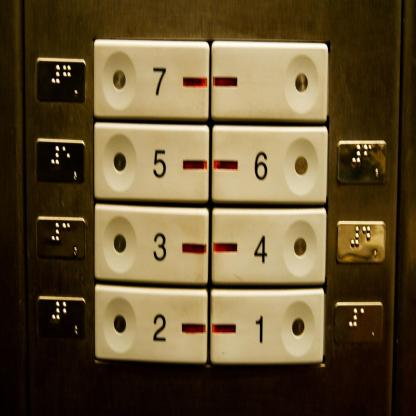1: (207, 281, 330, 369)
2: (90, 280, 208, 368)
3: (90, 202, 209, 288)
4: (209, 203, 330, 292)
5: (89, 120, 208, 202)
6: (208, 125, 330, 209)
7: (90, 35, 208, 125)
empty: (208, 36, 332, 125)
